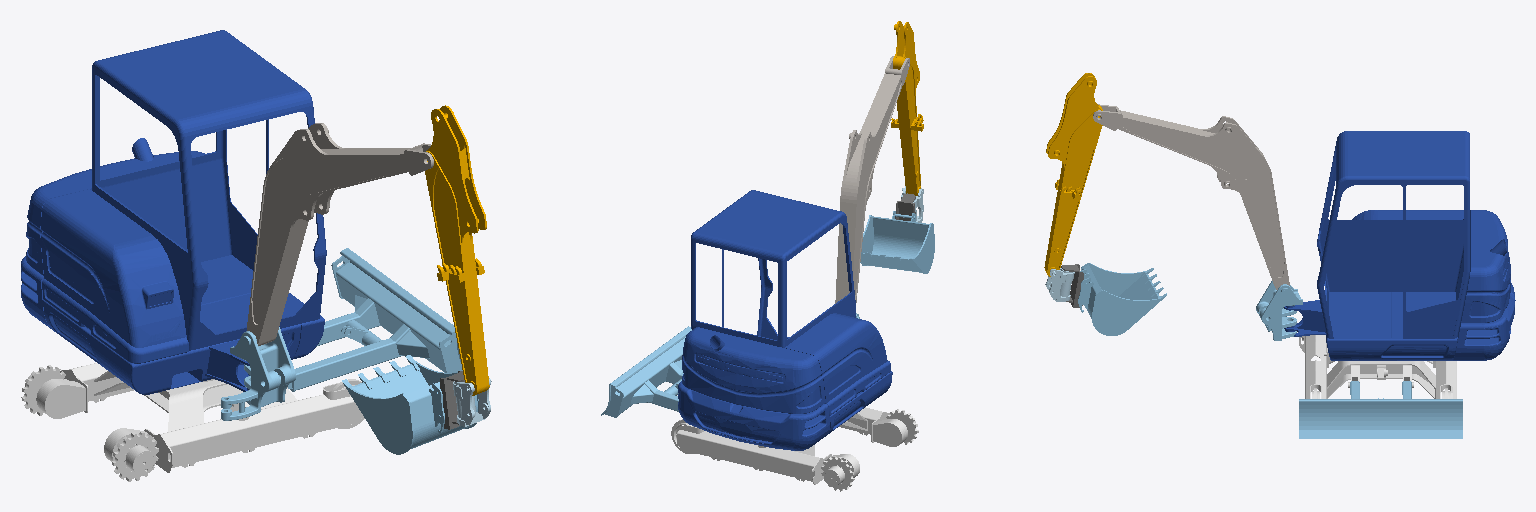
The robot description file, URDF, robot "onshape":
<robot name="onshape">
<link name="compact_excavator_cabin_body_cmpl">
<visual>
<origin xyz="0.15929227608280682738 -0.2512819772778476235 0.33139999999999991687" rpy="1.570796326794896558 -9.3057818912215613423e-24 -4.5449756518009500624e-16" />
<geometry>
<mesh filename="compact_excavator_cabin_body.stl"/>
</geometry>
<material name="compact_excavator_cabin_body_material">
<color rgba="0.2313725490196078538 0.38039215686274507888 0.7058823529411765163 1.0"/>
</material>
</visual>
<collision>
<origin xyz="0.15929227608280682738 -0.2512819772778476235 0.33139999999999991687" rpy="1.570796326794896558 -9.3057818912215613423e-24 -4.5449756518009500624e-16" />
<geometry>
<mesh filename="compact_excavator_cabin_body.stl"/>
</geometry>
</collision>
<inertial>
<origin xyz="-0.14687259964422888503 0.44115718470639297966 0.45091673023147610389" rpy="0 0 0"/>
<mass value="9732.8038980797628028" />
<inertia ixx="3175.1655302028038932" ixy="-269.97312494382822479"  ixz="167.61780128589879268" iyy="2627.6328649732372469" iyz="-193.85494965010886403" izz="3742.616047274826542" />
</inertial>
</link>

<link name="compact_excavator_turret_cabin_roller">
<visual>
<origin xyz="-0.25 -2.6186110041323504109e-15 0" rpy="-1.570796326794896558 -0 -1.2325977355371927047e-32" />
<geometry>
<mesh filename="compact_excavator_turret_cabin_roller.stl"/>
</geometry>
<material name="compact_excavator_turret_cabin_roller_material">
<color rgba="0.98039215686274505668 0.71372549019607844922 0.0039215686274509803377 1.0"/>
</material>
</visual>
<collision>
<origin xyz="-0.25 -2.6186110041323504109e-15 0" rpy="-1.570796326794896558 -0 -1.2325977355371927047e-32" />
<geometry>
<mesh filename="compact_excavator_turret_cabin_roller.stl"/>
</geometry>
</collision>
<inertial>
<origin xyz="-0.25 -2.6054736931005860751e-15 -0.024479606502805662666" rpy="0 0 0"/>
<mass value="72.827596459303620691" />
<inertia ixx="1.099653317522871987" ixy="-2.7108603781094622134e-32"  ixz="-1.2447660391936814803e-72" iyy="1.0996533175228724311" iyz="2.9990054258902069892e-40" izz="2.1659744096152291348" />
</inertial>
</link>

<link name="compact_excavator_frame_body">
<visual>
<origin xyz="1.232595164407830946e-32 8.7258015952359883014e-17 -0.11999999999999998168" rpy="1.570796326794896558 -0 2.4651904365350562318e-32" />
<geometry>
<mesh filename="compact_excavator_frame_body.stl"/>
</geometry>
<material name="compact_excavator_frame_body_material">
<color rgba="0.91764705882352937127 0.91764705882352937127 0.91764705882352937127 1.0"/>
</material>
</visual>
<collision>
<origin xyz="1.232595164407830946e-32 8.7258015952359883014e-17 -0.11999999999999998168" rpy="1.570796326794896558 -0 2.4651904365350562318e-32" />
<geometry>
<mesh filename="compact_excavator_frame_body.stl"/>
</geometry>
</collision>
<inertial>
<origin xyz="-0.0067641129059075200819 -0.12553013124423664792 -0.18649077363537946983" rpy="0 0 0"/>
<mass value="459.11707598787205598" />
<inertia ixx="103.54309263053609413" ixy="2.8689912175751035583"  ixz="-0.26918599165092144121" iyy="71.550382439979060223" iyz="-8.7881744003938315757" izz="164.71779214088334697" />
</inertial>
</link>

<link name="compact_excavator_main_drive_wheel_cmpl_(1)">
<visual>
<origin xyz="0 -2.0816681711721685133e-17 -0.015000000000000124345" rpy="-3.141592653589793116 -2.0807134519566454969e-32 5.2577708942031777146e-17" />
<geometry>
<mesh filename="compact_excavator_main_drive_wheel.stl"/>
</geometry>
<material name="compact_excavator_main_drive_wheel_material">
<color rgba="0.91764705882352937127 0.91764705882352937127 0.91764705882352937127 1.0"/>
</material>
</visual>
<collision>
<origin xyz="0 -2.0816681711721685133e-17 -0.015000000000000124345" rpy="-3.141592653589793116 -2.0807134519566454969e-32 5.2577708942031777146e-17" />
<geometry>
<mesh filename="compact_excavator_main_drive_wheel.stl"/>
</geometry>
</collision>
<inertial>
<origin xyz="2.7929494467705319618e-05 -2.4226277708340838271e-16 -0.047030821852304713349" rpy="0 0 0"/>
<mass value="35.986291345795820007" />
<inertia ixx="0.20071737580058110484" ixy="2.1151248144254331483e-17"  ixz="7.9696042408110000254e-05" iyy="0.20066206838835709547" iyz="2.9623558171777900037e-16" izz="0.29333573070696433716" />
</inertial>
</link>

<joint name="left_sprocket_wheel" type="continuous">
<origin xyz="-0.5739999999999999547 -0.80000000000000015543 -0.2750000000000000222" rpy="1.570796326794896558 -0.3547477759675310427 1.5707963267948976682" />
<parent link="compact_excavator_frame_body" />
<child link="compact_excavator_main_drive_wheel_cmpl_(1)" />
<axis xyz="0 0 1"/>
<limit effort="1" velocity="20" />
<joint_properties friction="0.0"/>
</joint>

<link name="compact_excavator_main_drive_wheel_cmpl">
<visual>
<origin xyz="-6.9388939039072283776e-18 0 -0.015000000000000013323" rpy="3.141592653589793116 -8.8584862394572233055e-32 -4.1054183189918654794e-18" />
<geometry>
<mesh filename="compact_excavator_main_drive_wheel.stl"/>
</geometry>
<material name="compact_excavator_main_drive_wheel_material">
<color rgba="0.91764705882352937127 0.91764705882352937127 0.91764705882352937127 1.0"/>
</material>
</visual>
<collision>
<origin xyz="-6.9388939039072283776e-18 0 -0.015000000000000013323" rpy="3.141592653589793116 -8.8584862394572233055e-32 -4.1054183189918654794e-18" />
<geometry>
<mesh filename="compact_excavator_main_drive_wheel.stl"/>
</geometry>
</collision>
<inertial>
<origin xyz="2.7929494467698390888e-05 -2.2144767850277592569e-16 -0.047030821852304602326" rpy="0 0 0"/>
<mass value="35.986291345795820007" />
<inertia ixx="0.20071737580058127137" ixy="6.1250580134766935832e-18"  ixz="7.9696042408110027359e-05" iyy="0.20066206838835703996" iyz="2.9623106429686494369e-16" izz="0.29333573070696433716" />
</inertial>
</link>

<joint name="right_sprocket_wheel" type="continuous">
<origin xyz="0.5739999999999999547 -0.80000000000000004441 -0.2750000000000000222" rpy="1.570796326794896558 -1.2984776443375001254 -1.5707963267948972241" />
<parent link="compact_excavator_frame_body" />
<child link="compact_excavator_main_drive_wheel_cmpl" />
<axis xyz="0 0 1"/>
<limit effort="1" velocity="20" />
<joint_properties friction="0.0"/>
</joint>

<link name="compact_excavator_front_wheel">
<visual>
<origin xyz="1.1102230246251565404e-16 -1.1102230246251565404e-16 -0.032500000000000084377" rpy="1.570796326794896558 1.570796326794896336 0" />
<geometry>
<mesh filename="compact_excavator_front_wheel.stl"/>
</geometry>
<material name="compact_excavator_front_wheel_material">
<color rgba="0.91764705882352937127 0.91764705882352937127 0.91764705882352937127 1.0"/>
</material>
</visual>
<collision>
<origin xyz="1.1102230246251565404e-16 -1.1102230246251565404e-16 -0.032500000000000084377" rpy="1.570796326794896558 1.570796326794896336 0" />
<geometry>
<mesh filename="compact_excavator_front_wheel.stl"/>
</geometry>
</collision>
<inertial>
<origin xyz="8.8979772495497043726e-17 -1.1262368284473494847e-16 -0.032500000000000070499" rpy="0 0 0"/>
<mass value="17.64673591392957519" />
<inertia ixx="0.153078316536178205" ixy="1.0629206596102168903e-17"  ixz="2.6922495826861160064e-17" iyy="0.15307831653617814949" iyz="6.9747558075870228735e-33" izz="0.29963755764746907717" />
</inertial>
</link>

<joint name="left_idle_passive_wheel" type="continuous">
<origin xyz="-0.61299999999999998934 0.80000000000000026645 -0.2750000000000000222" rpy="1.570796326794896558 -1.0222876983448163646 -1.5707963267948941155" />
<parent link="compact_excavator_frame_body" />
<child link="compact_excavator_front_wheel" />
<axis xyz="0 0 1"/>
<limit effort="1" velocity="20" />
<joint_properties friction="0.0"/>
</joint>

<link name="compact_excavator_front_wheel_2">
<visual>
<origin xyz="0 0 -0.032500000000000084377" rpy="-1.570796326794896558 -1.570796326794896336 0" />
<geometry>
<mesh filename="compact_excavator_front_wheel.stl"/>
</geometry>
<material name="compact_excavator_front_wheel_material">
<color rgba="0.91764705882352937127 0.91764705882352937127 0.91764705882352937127 1.0"/>
</material>
</visual>
<collision>
<origin xyz="0 0 -0.032500000000000084377" rpy="-1.570796326794896558 -1.570796326794896336 0" />
<geometry>
<mesh filename="compact_excavator_front_wheel.stl"/>
</geometry>
</collision>
<inertial>
<origin xyz="-2.2042529967018601071e-17 1.6013803822193002062e-18 -0.032500000000000098255" rpy="0 0 0"/>
<mass value="17.64673591392957519" />
<inertia ixx="0.153078316536178205" ixy="-3.7736718547636912232e-33"  ixz="-2.6922495826861147738e-17" iyy="0.153078316536178205" iyz="-6.9321227369532044948e-49" izz="0.29963755764746907717" />
</inertial>
</link>

<joint name="right_idle_passive_wheel" type="continuous">
<origin xyz="0.54800000000000004263 0.80000000000000015543 -0.27499999999999996669" rpy="1.57079632679489678 -1.1102232252180887662e-16 -1.5707963267948976682" />
<parent link="compact_excavator_frame_body" />
<child link="compact_excavator_front_wheel_2" />
<axis xyz="0 0 1"/>
<limit effort="1" velocity="20" />
<joint_properties friction="0.0"/>
</joint>

<link name="push_blade_bucket">
<visual>
<origin xyz="-0.021564399534920564161 1.0799900599760599018 -0.25500000000000000444" rpy="-1.570796326794896558 -1.570796326794896558 0" />
<geometry>
<mesh filename="push_blade_bucket.stl"/>
</geometry>
<material name="push_blade_bucket_material">
<color rgba="0.61568627450980395466 0.81176470588235294379 0.92941176470588238168 1.0"/>
</material>
</visual>
<collision>
<origin xyz="-0.021564399534920564161 1.0799900599760599018 -0.25500000000000000444" rpy="-1.570796326794896558 -1.570796326794896558 0" />
<geometry>
<mesh filename="push_blade_bucket.stl"/>
</geometry>
</collision>
<inertial>
<origin xyz="-0.10970493109347190241 0.88075063461342828486 -0.25500033703320834633" rpy="0 0 0"/>
<mass value="147.01808168083425699" />
<inertia ixx="31.881096131626421197" ixy="0.91247385061899932701"  ixz="-1.6212090668492922982e-05" iyy="21.196220352263214437" iyz="4.9900082202379639952e-06" izz="13.169227707961496776" />
</inertial>
</link>

<joint name="plow1" type="revolute">
<origin xyz="-0.25500000000000005995 0.4880000000000002669 -0.20500000000000001554" rpy="1.570796326794896558 -1.3195606112546109934 -1.57079632679489678" />
<parent link="compact_excavator_frame_body" />
<child link="push_blade_bucket" />
<axis xyz="0 0 1"/>
<limit effort="1" velocity="20" />
<joint_properties friction="0.0"/>
</joint>

<joint name="tankSpin_wheel" type="continuous">
<origin xyz="-0.25 -2.6052883279480892481e-15 -0.050000000000000002776" rpy="-5.5511151231419568159e-17 -1.1102230246202266528e-16 1.57079632679489678" />
<parent link="compact_excavator_turret_cabin_roller" />
<child link="compact_excavator_frame_body" />
<axis xyz="0 0 1"/>
<limit effort="1" velocity="20" />
<joint_properties friction="0.0"/>
</joint>

<joint name="fixed_base" type="fixed">
<origin xyz="-0.25 -2.394831672112794725e-15 0.049999999999999988898" rpy="-6.5400986663891116335e-25 -1.0029564927205460558e-23 3.1415926535897926719" />
<parent link="compact_excavator_cabin_body_cmpl" />
<child link="compact_excavator_turret_cabin_roller" />
<axis xyz="0 0 1"/>
<limit effort="1" velocity="20" />
<joint_properties friction="0.0"/>
</joint>

<link name="part01_pin_1">
<visual>
<origin xyz="2.7755575615628913511e-17 0.074999999999999955591 -0.14999999999999996669" rpy="-1.570796326794896336 -6.1629758220391547298e-33 -3.9110122218931175387e-17" />
<geometry>
<mesh filename="part01_pin_1.stl"/>
</geometry>
<material name="part01_pin_1_material">
<color rgba="0.61568627450980395466 0.81176470588235294379 0.92941176470588238168 1.0"/>
</material>
</visual>
<collision>
<origin xyz="2.7755575615628913511e-17 0.074999999999999955591 -0.14999999999999996669" rpy="-1.570796326794896336 -6.1629758220391547298e-33 -3.9110122218931175387e-17" />
<geometry>
<mesh filename="part01_pin_1.stl"/>
</geometry>
</collision>
<inertial>
<origin xyz="-0.026030309007671018073 0.10672288733099301317 0.097553850513847364945" rpy="0 0 0"/>
<mass value="98.140190062279060612" />
<inertia ixx="2.6085778666185075458" ixy="0.040227300901953748358"  ixz="0.42136783119553594679" iyy="3.1665232143977135593" iyz="-0.15916376835413623136" izz="1.7889951810686841593" />
</inertial>
</link>

<link name="part02_cmpl">
<visual>
<origin xyz="0 -1.1102230246251565404e-16 -0.079999999999999987788" rpy="-1.8986444163684491919e-18 -4.7989883477086379722e-18 -5.5740196908052639442e-17" />
<geometry>
<mesh filename="part02.stl"/>
</geometry>
<material name="part02_material">
<color rgba="0.77647058823529413463 0.7568627450980391913 0.73725490196078435901 1.0"/>
</material>
</visual>
<collision>
<origin xyz="0 -1.1102230246251565404e-16 -0.079999999999999987788" rpy="-1.8986444163684491919e-18 -4.7989883477086379722e-18 -5.5740196908052639442e-17" />
<geometry>
<mesh filename="part02.stl"/>
</geometry>
</collision>
<inertial>
<origin xyz="-0.04007940207094668611 1.215334476695421273 -0.079873417172118876817" rpy="0 0 0"/>
<mass value="694.17793513858055121" />
<inertia ixx="242.81245205849677404" ixy="71.370938403077758494"  ixz="0.0065905643878567711502" iyy="49.641340591529456105" iyz="-0.034260052091464154866" izz="289.83702909122945357" />
</inertial>
</link>

<link name="part03">
<visual>
<origin xyz="0 -2.2204460492503130808e-16 -0.054999999999999882316" rpy="3.141592653589793116 -2.9355922150226585865e-17 -1.6244440429287848019e-17" />
<geometry>
<mesh filename="part03.stl"/>
</geometry>
<material name="part03_material">
<color rgba="0.98039215686274505668 0.71372549019607844922 0.0039215686274509803377 1.0"/>
</material>
</visual>
<collision>
<origin xyz="0 -2.2204460492503130808e-16 -0.054999999999999882316" rpy="3.141592653589793116 -2.9355922150226585865e-17 -1.6244440429287848019e-17" />
<geometry>
<mesh filename="part03.stl"/>
</geometry>
</collision>
<inertial>
<origin xyz="0.10866226733951289685 -0.60164797350906107365 -0.055167291851018741833" rpy="0 0 0"/>
<mass value="265.34907807560875881" />
<inertia ixx="57.599134249663784146" ixy="0.078442580554215754485"  ixz="0.0049826290162324230956" iyy="1.8968981412117758012" iyz="0.02459901605653430981" izz="58.868680211308259231" />
</inertial>
</link>

<link name="part04">
<visual>
<origin xyz="0.060000000000000053291 0.14000000000000012434 0.054999999999999993339" rpy="-1.570796326794896558 -1.570796326794896558 0" />
<geometry>
<mesh filename="part04.stl"/>
</geometry>
<material name="part04_material">
<color rgba="0.76862745098039220171 0.88627450980392152857 0.95294117647058818044 1.0"/>
</material>
</visual>
<collision>
<origin xyz="0.060000000000000053291 0.14000000000000012434 0.054999999999999993339" rpy="-1.570796326794896558 -1.570796326794896558 0" />
<geometry>
<mesh filename="part04.stl"/>
</geometry>
</collision>
<visual>
<origin xyz="0.078718096856630614955 0.97961106773940276327 0.054999999999992416067" rpy="9.6276401840221615033e-15 3.0234573268304492925e-15 3.0159289474462172009" />
<geometry>
<mesh filename="bucket.stl"/>
</geometry>
<material name="bucket_material">
<color rgba="0.61568627450980395466 0.81176470588235294379 0.92941176470588238168 1.0"/>
</material>
</visual>
<collision>
<origin xyz="0.078718096856630614955 0.97961106773940276327 0.054999999999992416067" rpy="9.6276401840221615033e-15 3.0234573268304492925e-15 3.0159289474462172009" />
<geometry>
<mesh filename="bucket.stl"/>
</geometry>
</collision>
<visual>
<origin xyz="0.16999999999999237943 0.30800000000000604672 0.054999999999999299449" rpy="-3.1415926535897793492 -1.570796326794896558 0" />
<geometry>
<mesh filename="bucket_mount.stl"/>
</geometry>
<material name="bucket_mount_material">
<color rgba="0.49803921568627451677 0.49803921568627451677 0.49803921568627451677 1.0"/>
</material>
</visual>
<collision>
<origin xyz="0.16999999999999237943 0.30800000000000604672 0.054999999999999299449" rpy="-3.1415926535897793492 -1.570796326794896558 0" />
<geometry>
<mesh filename="bucket_mount.stl"/>
</geometry>
</collision>
<inertial>
<origin xyz="0.21363777998579594475 0.42618058483691984017 0.055071497454761988988" rpy="0 0 0"/>
<mass value="132.70765933863819441" />
<inertia ixx="14.03567187790122972" ixy="-1.6652440163767181502"  ixz="0.0020270508814650067472" iyy="6.8549730106956987541" iyz="0.0040437120644442776929" izz="11.610921270718170817" />
</inertial>
</link>

<joint name="scoop1" type="revolute">
<origin xyz="0.12000000000000410338 -1.5403327562575612752 9.4368957093138305936e-16" rpy="3.1415926535897917837 1.8859935444767496044e-16 -1.5963552846072552871" />
<parent link="part03" />
<child link="part04" />
<axis xyz="0 0 1"/>
<limit effort="1" velocity="20" lower="-1.2217304763960306069" upper="0.87266462599716476678"/>
<joint_properties friction="0.0"/>
</joint>

<joint name="upperToLow" type="revolute">
<origin xyz="-0.84000000000000030198 2.3549999999999999822 -0.13500000000000003664" rpy="3.1415926535897922278 6.9325343981756730312e-15 2.5555644018935783635" />
<parent link="part02_cmpl" />
<child link="part03" />
<axis xyz="0 0 1"/>
<limit effort="1" velocity="20" />
<joint_properties friction="0.0"/>
</joint>

<joint name="lower_arm" type="revolute">
<origin xyz="0.079999999999996157518 0.074999999999997291056 -0.1500000000000039635" rpy="-1.570796326794896558 0.39285813115170314935 -1.5707963267949009989" />
<parent link="part01_pin_1" />
<child link="part02_cmpl" />
<axis xyz="0 0 1"/>
<limit effort="1" velocity="20" />
<joint_properties friction="0.0"/>
</joint>

<joint name="full_arm_rotation" type="revolute">
<origin xyz="-0.040707723917193447405 -0.80673603465099630316 0.38039999999999996039" rpy="3.141592653589793116 4.8797124238540929311e-17 0.21446312817660284633" />
<parent link="compact_excavator_cabin_body_cmpl" />
<child link="part01_pin_1" />
<axis xyz="0 0 1"/>
<limit effort="1" velocity="20" />
<joint_properties friction="0.0"/>
</joint>


</robot>

--- What the picture shows (computed from the rendered views, not written in the file) ---
The picture shows the robot from 3 angles, left to right: view 1: azimuth 30°, elevation 25°; view 2: azimuth 150°, elevation 25°; view 3: azimuth 270°, elevation 25°; orthographic projection.
Robot: onshape — 12 links, 11 joints (5 revolute, 5 continuous, 1 fixed); root link compact_excavator_cabin_body_cmpl; default pose: every joint at zero.
Links seen in each view (by area): view 1: compact_excavator_cabin_body_cmpl, compact_excavator_frame_body, part02_cmpl, push_blade_bucket, part03, part04, part01_pin_1, compact_excavator_main_drive_wheel_cmpl, compact_excavator_main_drive_wheel_cmpl_(1); view 2: compact_excavator_cabin_body_cmpl, part02_cmpl, compact_excavator_frame_body, part04, push_blade_bucket, part03, compact_excavator_main_drive_wheel_cmpl_(1); view 3: compact_excavator_cabin_body_cmpl, part02_cmpl, push_blade_bucket, part03, part04, compact_excavator_frame_body, part01_pin_1.
Link boxes in pixels (x1,y1,x2,y2): compact_excavator_cabin_body_cmpl: (21, 30, 326, 394); compact_excavator_frame_body: (36, 363, 362, 472); part02_cmpl: (247, 123, 433, 345); push_blade_bucket: (288, 248, 462, 391); part03: (425, 105, 489, 395); part04: (342, 355, 491, 454); part01_pin_1: (221, 327, 295, 420); compact_excavator_main_drive_wheel_cmpl: (112, 432, 158, 481); compact_excavator_main_drive_wheel_cmpl_(1): (21, 365, 66, 415); compact_excavator_cabin_body_cmpl: (678, 190, 892, 450); part02_cmpl: (835, 56, 909, 303); compact_excavator_frame_body: (677, 407, 907, 484); part04: (860, 186, 934, 273); push_blade_bucket: (601, 326, 691, 417); part03: (891, 21, 923, 195); compact_excavator_main_drive_wheel_cmpl_(1): (821, 456, 854, 491); compact_excavator_cabin_body_cmpl: (1284, 131, 1515, 360); part02_cmpl: (1093, 104, 1289, 289); push_blade_bucket: (1299, 381, 1462, 438); part03: (1044, 73, 1102, 276); part04: (1045, 263, 1166, 335); compact_excavator_frame_body: (1299, 335, 1456, 398); part01_pin_1: (1256, 281, 1302, 340).
Bounding box of the posed robot: 2.61 × 4.18 × 3.21 m (x, y, z).
14 mesh visuals loaded from 12 distinct referenced files (12 binary STL).